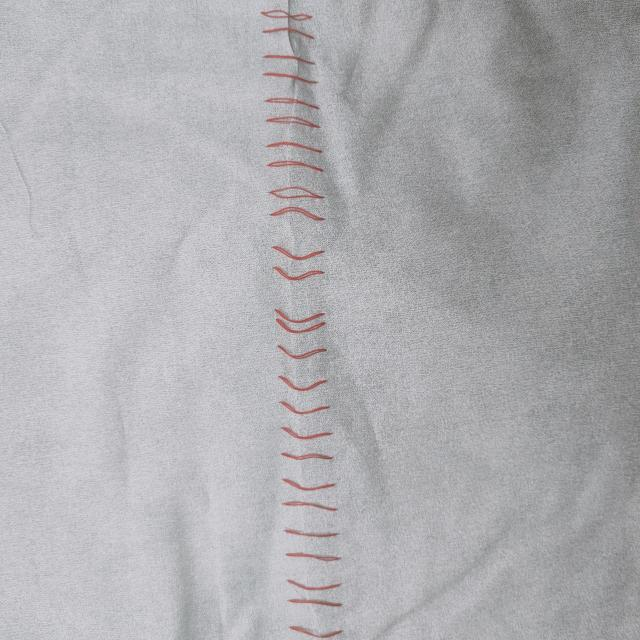gray stitch: (257, 3, 353, 640)
